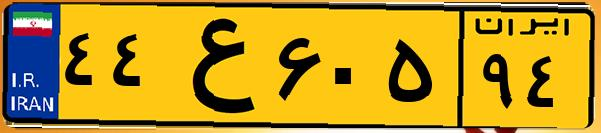0: (330, 28, 385, 110)
4: (57, 26, 110, 100), (525, 38, 570, 115), (110, 28, 158, 98)
5: (385, 28, 445, 110)
6: (270, 28, 330, 110)
9: (475, 38, 525, 113)
ع: (158, 12, 270, 120)
